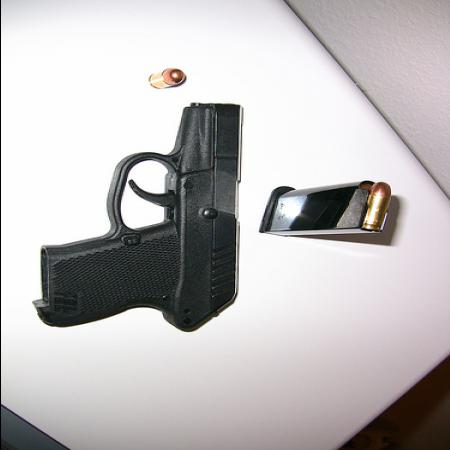Pistol: (33, 103, 244, 331)
